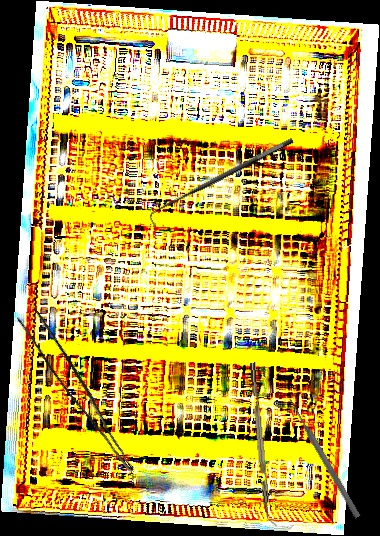Chopper: (249, 361, 278, 528)
Hook Surgical: (144, 135, 300, 229)
Pusher: (286, 397, 363, 520)
Tissue Forceps: (11, 305, 152, 473)
